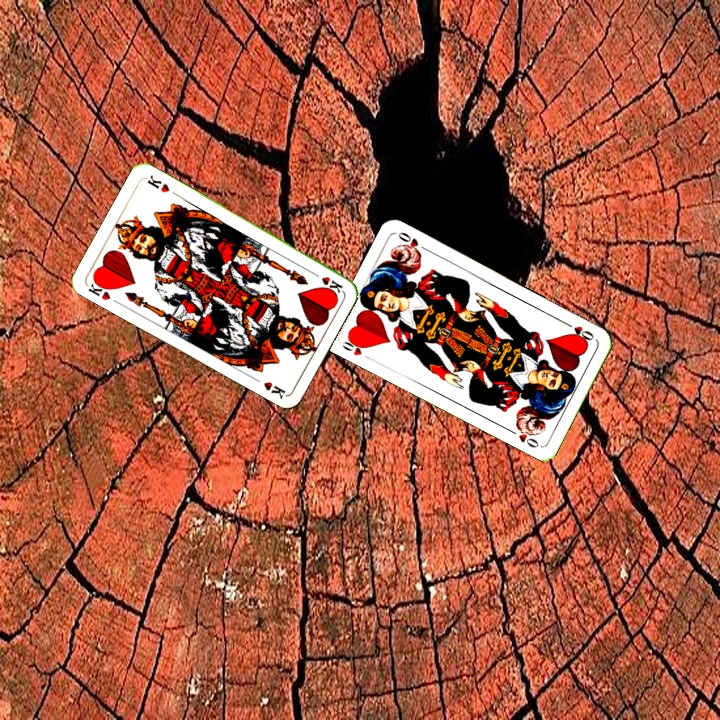HK: (307, 268, 346, 295), (84, 275, 114, 303)
HO: (338, 333, 375, 363), (560, 318, 597, 343)
